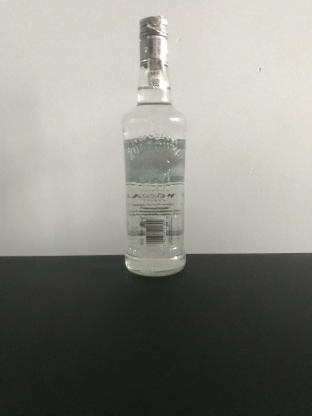nakretka: (137, 14, 170, 69)
